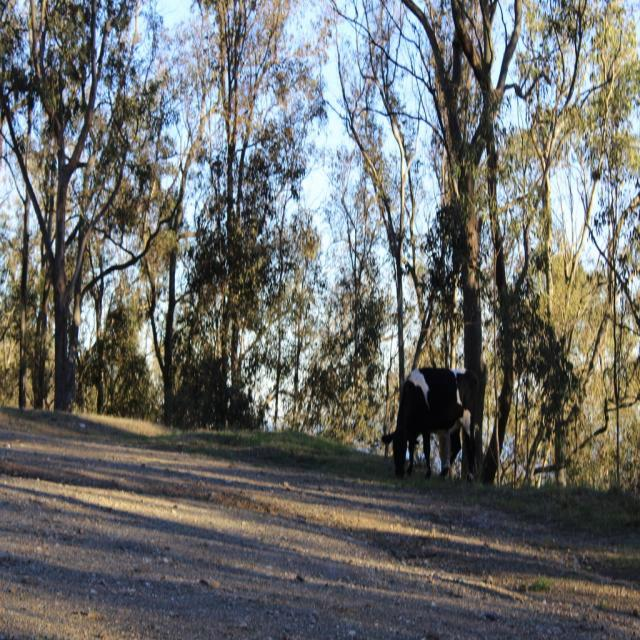cow: (382, 369, 475, 478)
